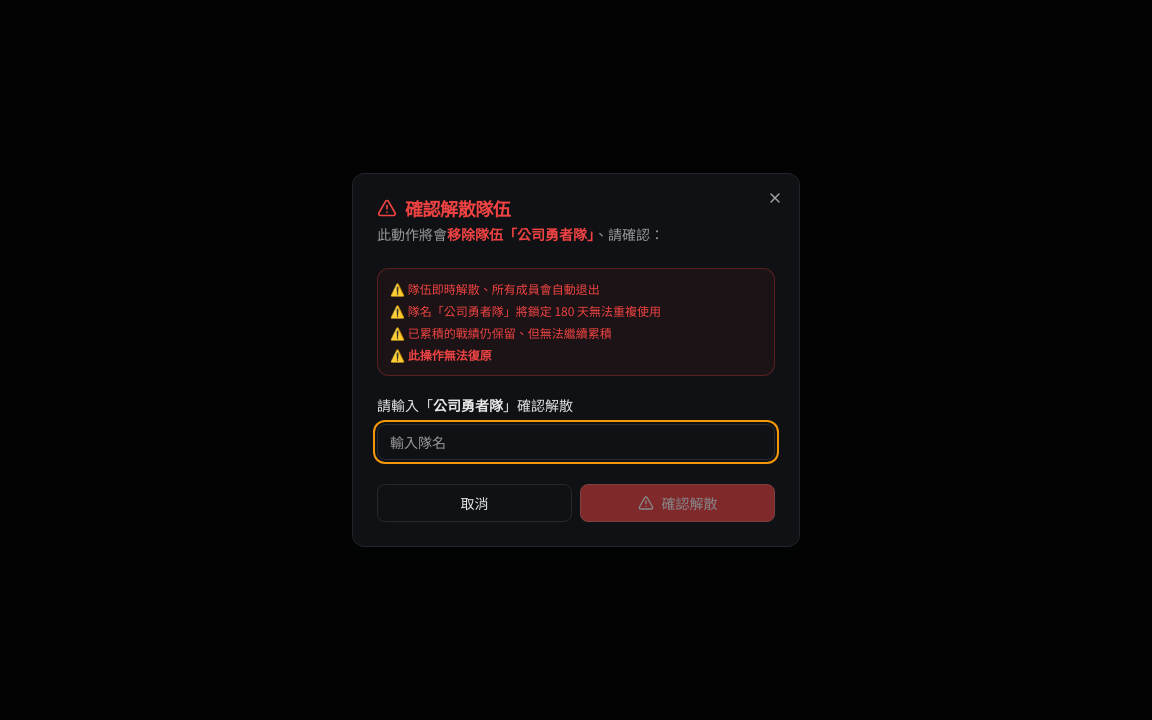
Scenario: DisbandSquadDialog › 輸入錯誤名稱時確認按鈕仍 disabled
The image size is (1152, 720).
In the field with test id "input-disband-confirm-name": (576, 442) [377,424,775,460], type "其他名字"
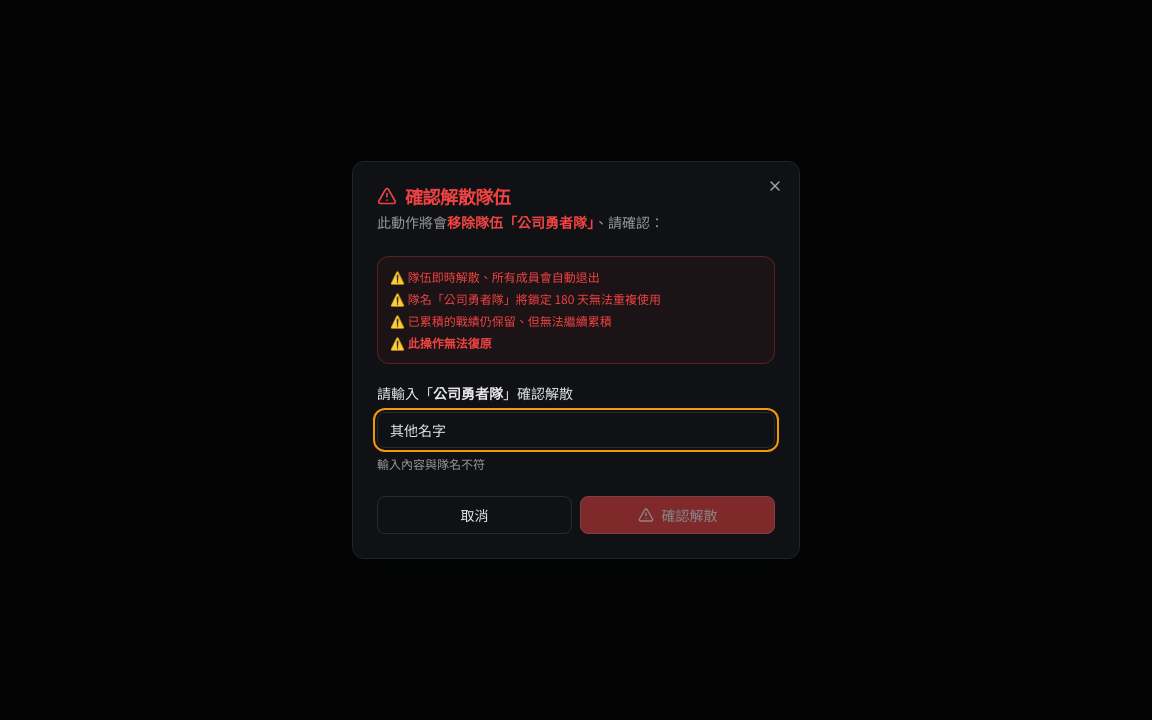
Check: the button with test id "btn-disband-confirm" is disabled, box [580,496,775,534]
Check: the text "輸入內容與隊名不符" is shown, box [377,455,485,472]
